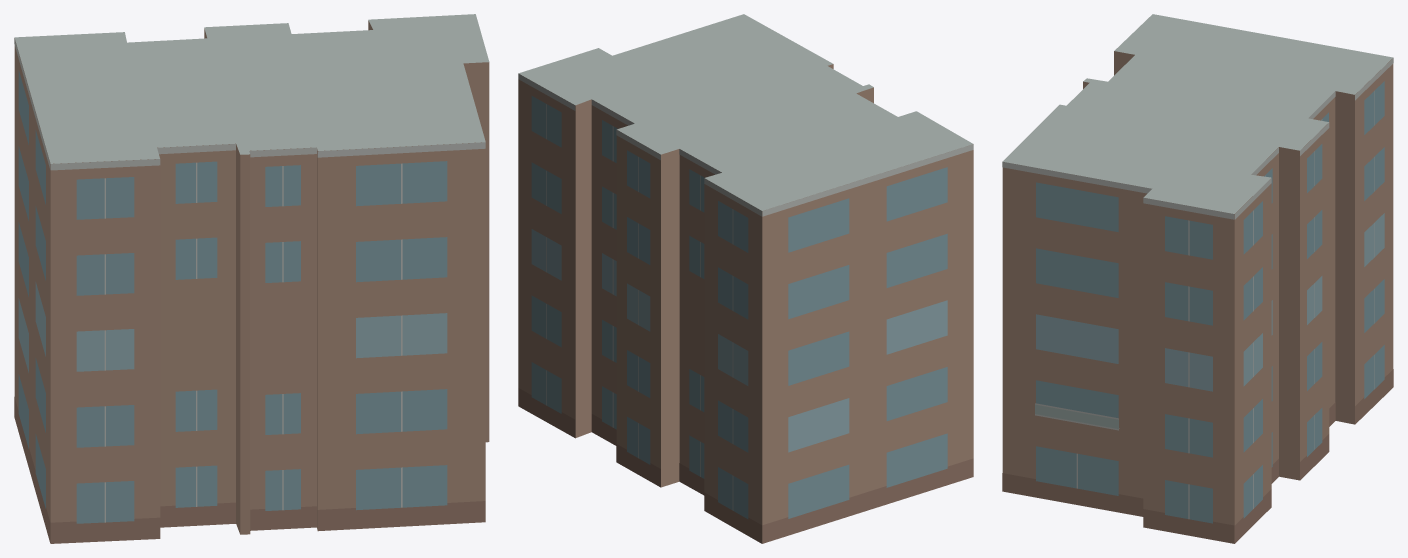
File: survey-upis-32934246.glb
3 renders of one model, left to right at view 1: azimuth 30°, elevation 25°; view 2: azimuth 150°, elevation 25°; view 3: azimuth 270°, elevation 25°, orthographic. The views are drawn at different scales.
Visible parts, largest first — view 1: survey-upis-32934246.tmp; view 2: survey-upis-32934246.tmp; view 3: survey-upis-32934246.tmp.
Part boxes in pixels (box(x1,y1,x2,y2)): survey-upis-32934246.tmp: box(14, 14, 489, 543); survey-upis-32934246.tmp: box(518, 14, 973, 543); survey-upis-32934246.tmp: box(1002, 14, 1393, 543).
Bounding box in the file's own units: 18.36 × 14.1 × 15.16.
